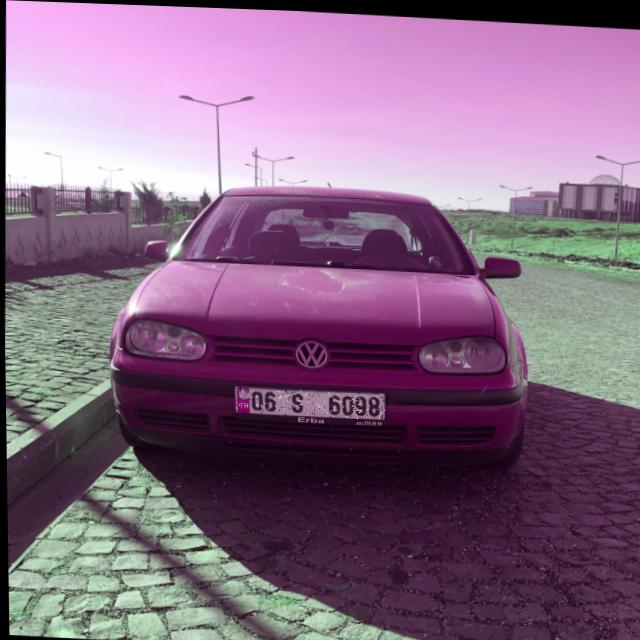license_plate: (232, 384, 383, 417)
